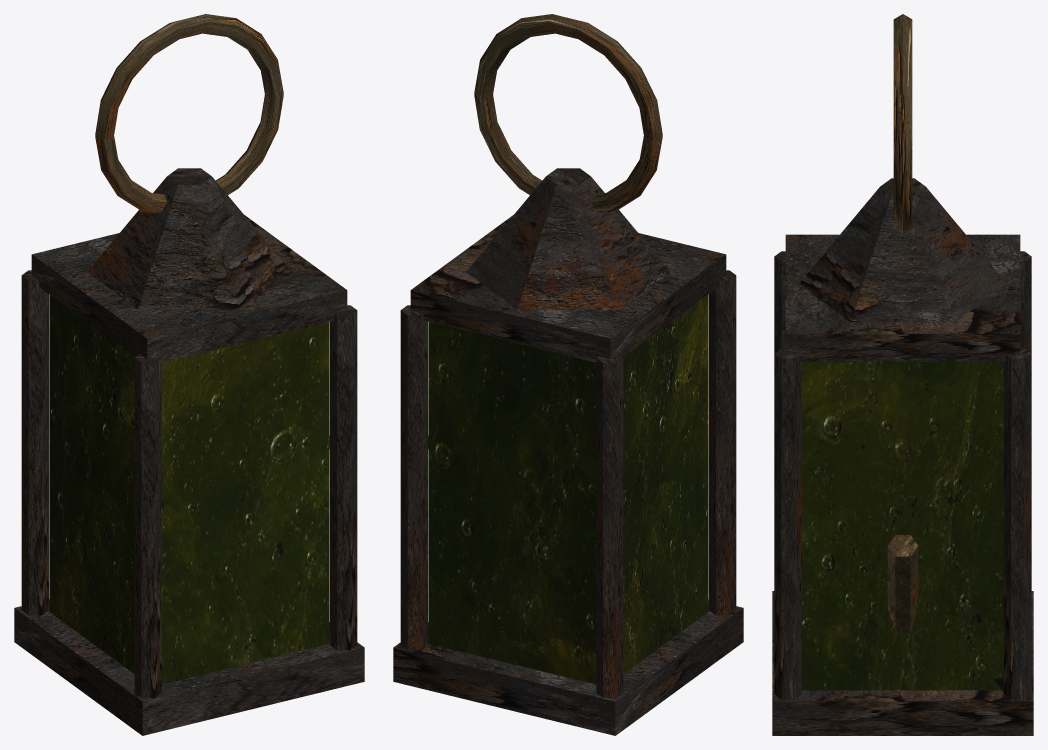
File: ember-lantern-v01-photo.glb
3 views of the same model, side by side, from view 1: azimuth 30°, elevation 25°; view 2: azimuth 150°, elevation 25°; view 3: azimuth 270°, elevation 25° (orthographic).
Parts seen in each view (by area): view 1: ember-lantern; view 2: ember-lantern; view 3: ember-lantern.
Boxes of the visible parts, box(x1,y1,x2,y2) form: ember-lantern: box(14, 14, 364, 735); ember-lantern: box(393, 14, 743, 735); ember-lantern: box(772, 14, 1033, 735).
Size of the model in its own units: 0.3861 by 0.9418 by 0.34.
4 materials, 3 textured.
